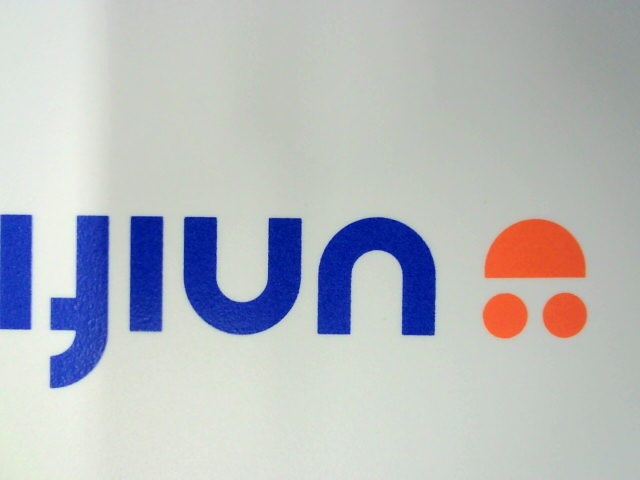BN_unifi: (1, 207, 588, 388)
